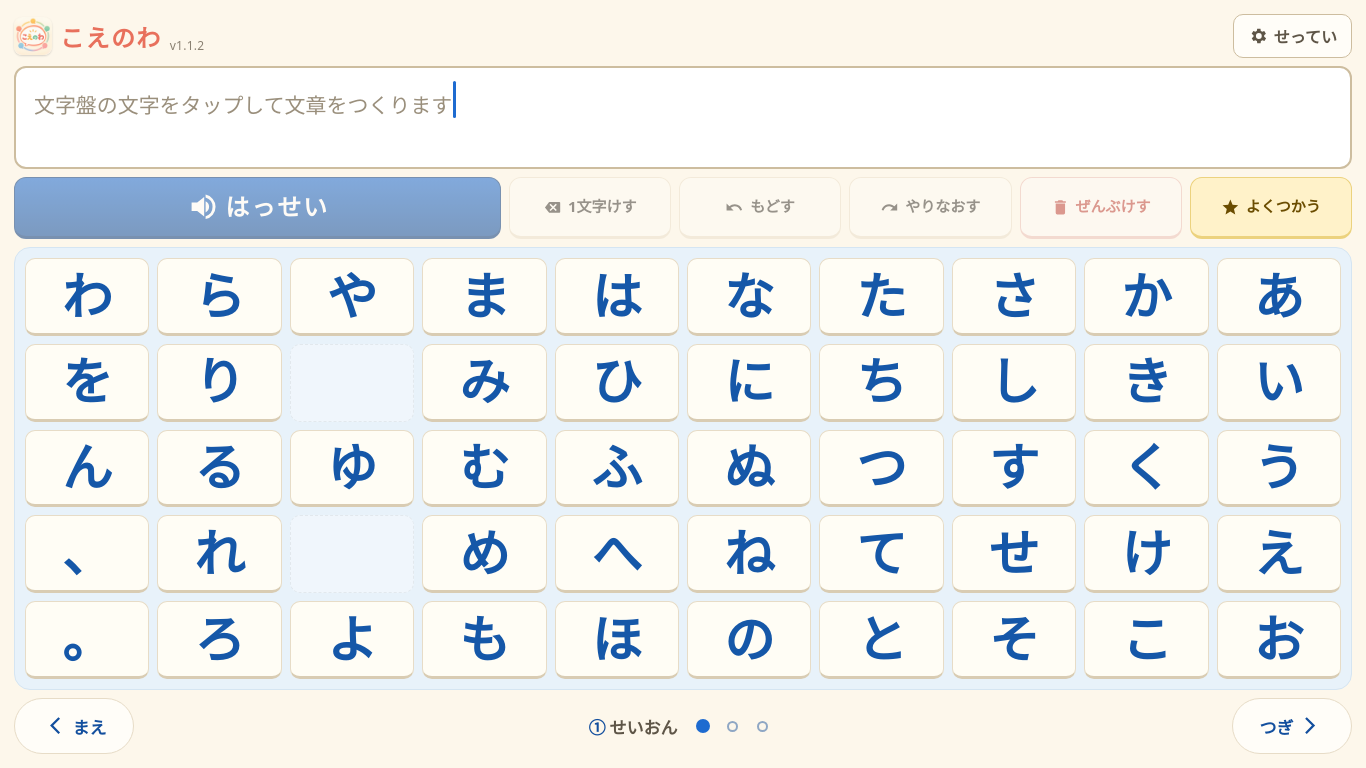
Test case: 男性・女性の声の選択 › 男性の声がないときは理由と端末の設定を案内し、名前が不明な声は分類しない
Click the button "せってい": (1292, 36) [1233,14,1352,58]
(page scrolled)
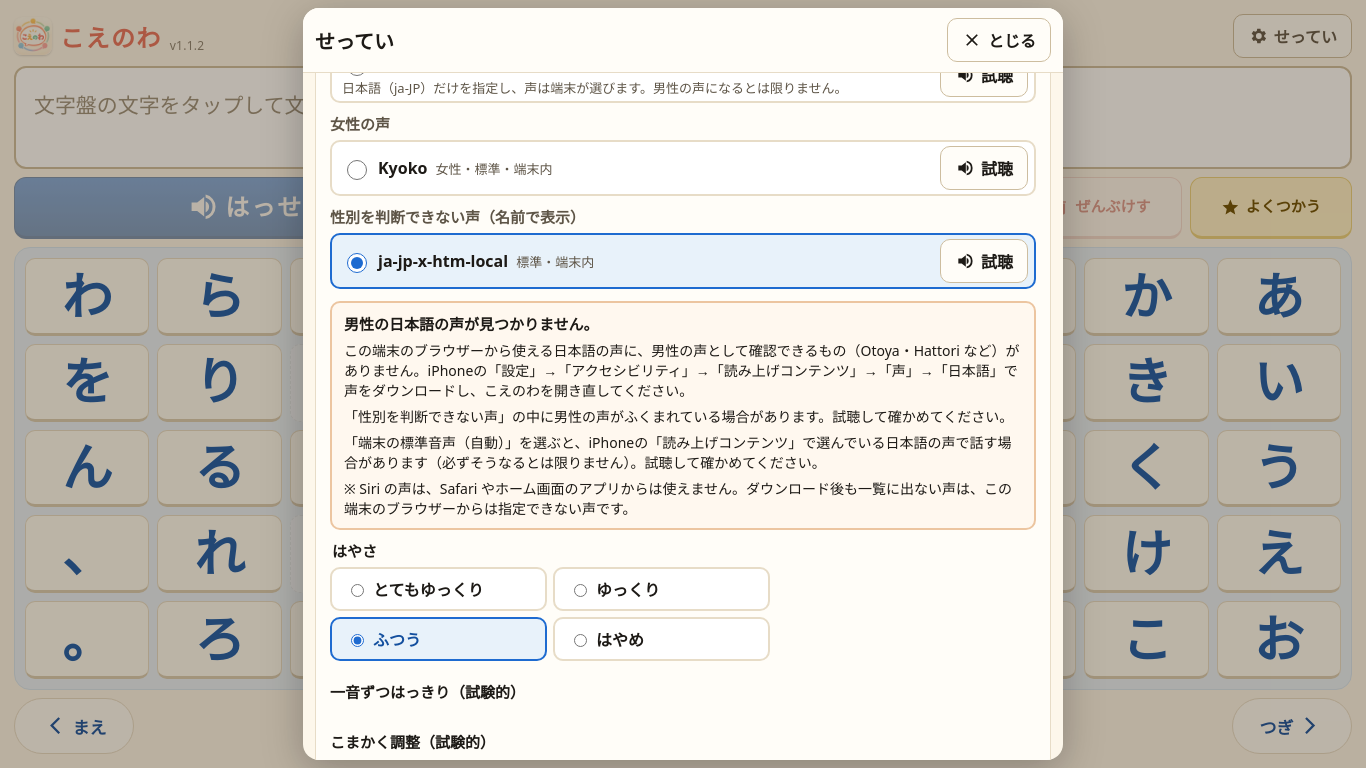
Expected: the heading "性別を判断できない声（名前で表示）" is shown, [330,207,585,227]
Expected: the text "男性の日本語の声が見つかりません。" is shown, [344,314,599,334]
Expected: the text "読み上げコンテンツ" is shown, [344,361,1018,400]
